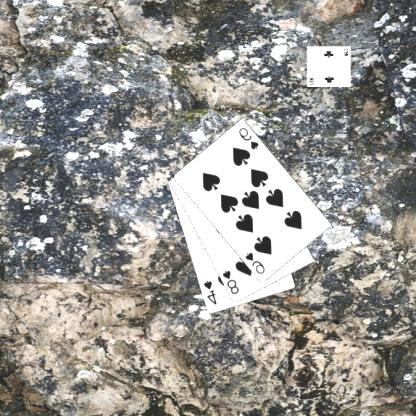4S: (202, 278, 220, 306)
8S: (221, 268, 242, 296)
9S: (244, 250, 268, 276), (238, 125, 262, 151)
